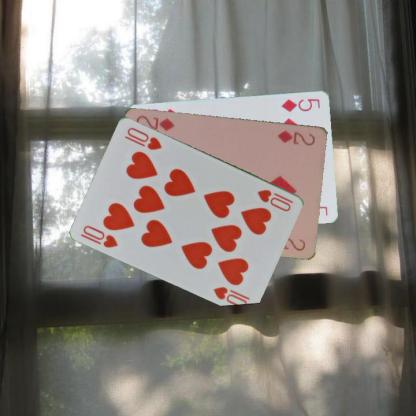10h: (80, 222, 120, 249), (255, 187, 295, 213)
2d: (275, 127, 317, 147)
5d: (279, 96, 322, 113)
